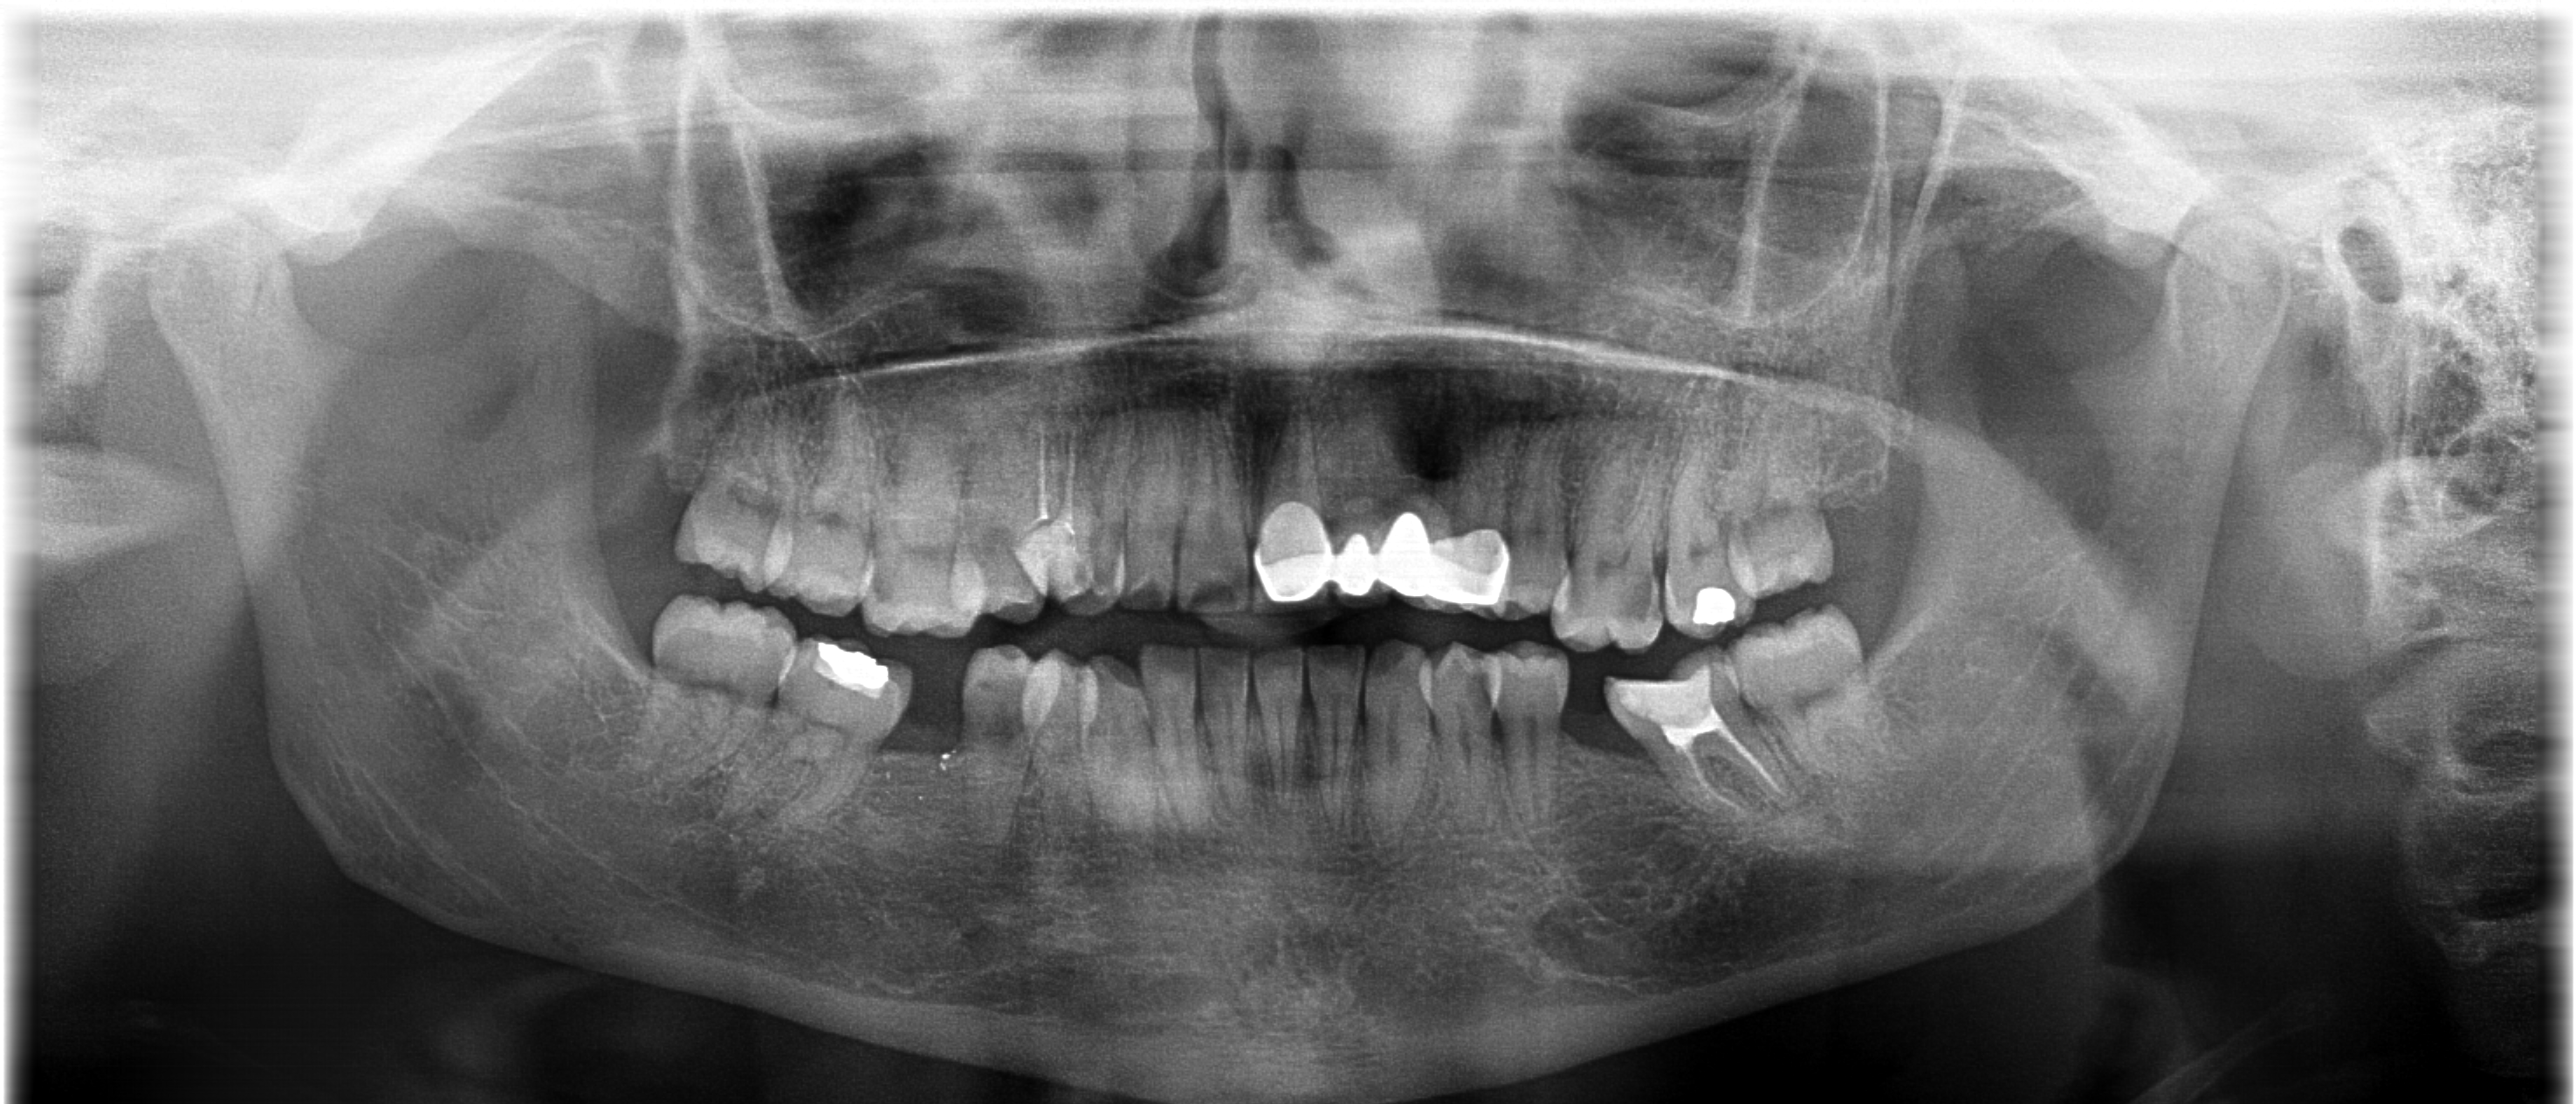apinamiento: (1004, 657, 1199, 733)
cordal: (614, 572, 805, 789), (1732, 596, 1929, 774), (652, 417, 805, 595)
zona_dentula: (1541, 647, 1664, 839), (869, 657, 987, 839)
